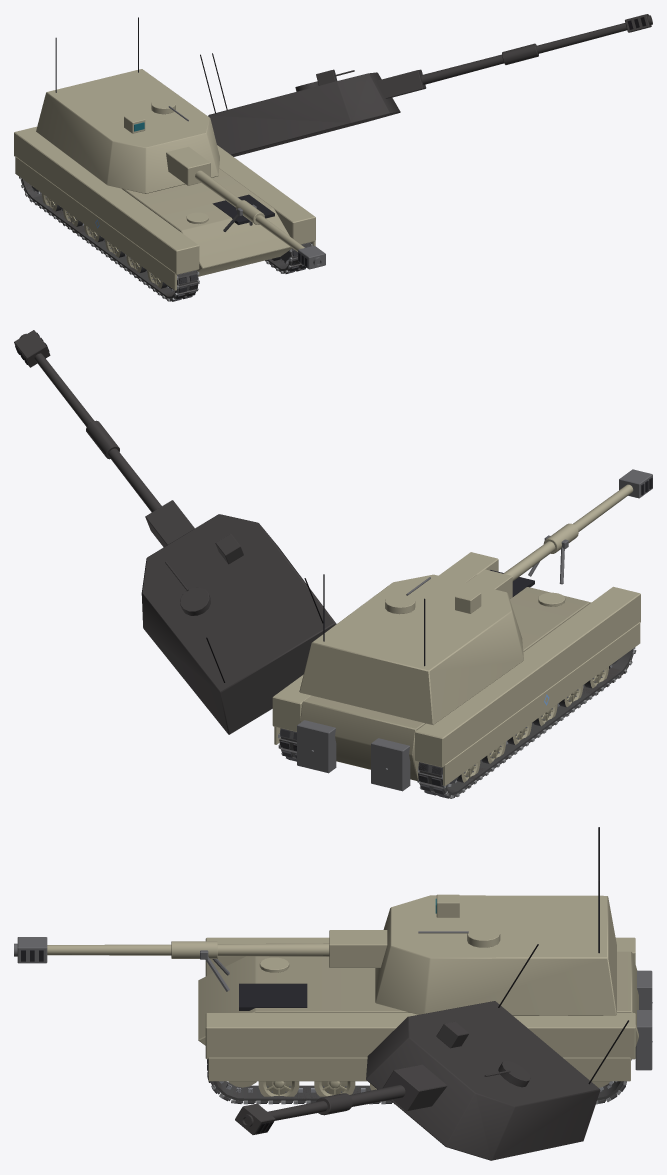
Rendered from artillery__2s19_msta_s.glb.
3 views of the same model, one above another, from view 1: azimuth 30°, elevation 25°; view 2: azimuth 150°, elevation 25°; view 3: azimuth 270°, elevation 25° (orthographic). The views are drawn at different scales.
Visible parts, largest first — view 1: Hull_Mesh, Turret_Mesh, Wreck, Gun_Mesh, Track_L_Mesh, Track_R_Mesh; view 2: Wreck, Hull_Mesh, Turret_Mesh, Gun_Mesh, Track_L_Mesh; view 3: Hull_Mesh, Wreck, Turret_Mesh, Gun_Mesh, Track_R_Mesh, Wheel_R5_Mesh, Wheel_R4_Mesh.
Part boxes in pixels (left/top/right/bottom): Hull_Mesh: left=14, top=126, right=315, bottom=290; Turret_Mesh: left=36, top=17, right=219, bottom=193; Wreck: left=21, top=14, right=652, bottom=300; Gun_Mesh: left=166, top=146, right=325, bottom=269; Track_L_Mesh: left=19, top=176, right=199, bottom=301; Track_R_Mesh: left=265, top=242, right=312, bottom=273; Wreck: left=14, top=330, right=636, bottom=798; Hull_Mesh: left=272, top=535, right=640, bottom=791; Turret_Mesh: left=299, top=574, right=523, bottom=724; Gun_Mesh: left=467, top=469, right=652, bottom=598; Track_L_Mesh: left=417, top=647, right=635, bottom=798; Hull_Mesh: left=198, top=937, right=652, bottom=1081; Wreck: left=207, top=944, right=628, bottom=1160; Turret_Mesh: left=375, top=827, right=616, bottom=1015; Gun_Mesh: left=14, top=930, right=387, bottom=967; Track_R_Mesh: left=207, top=1059, right=626, bottom=1104; Wheel_R5_Mesh: left=258, top=1081, right=299, bottom=1102; Wheel_R4_Mesh: left=314, top=1081, right=355, bottom=1096.
Size of what is drawn, in the model's own units: 12.71 by 4.14 by 10.78.
